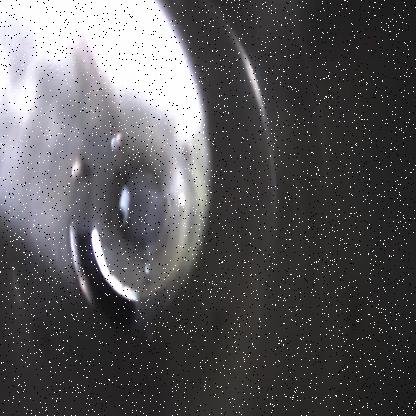Crack2: (68, 226, 141, 337)
